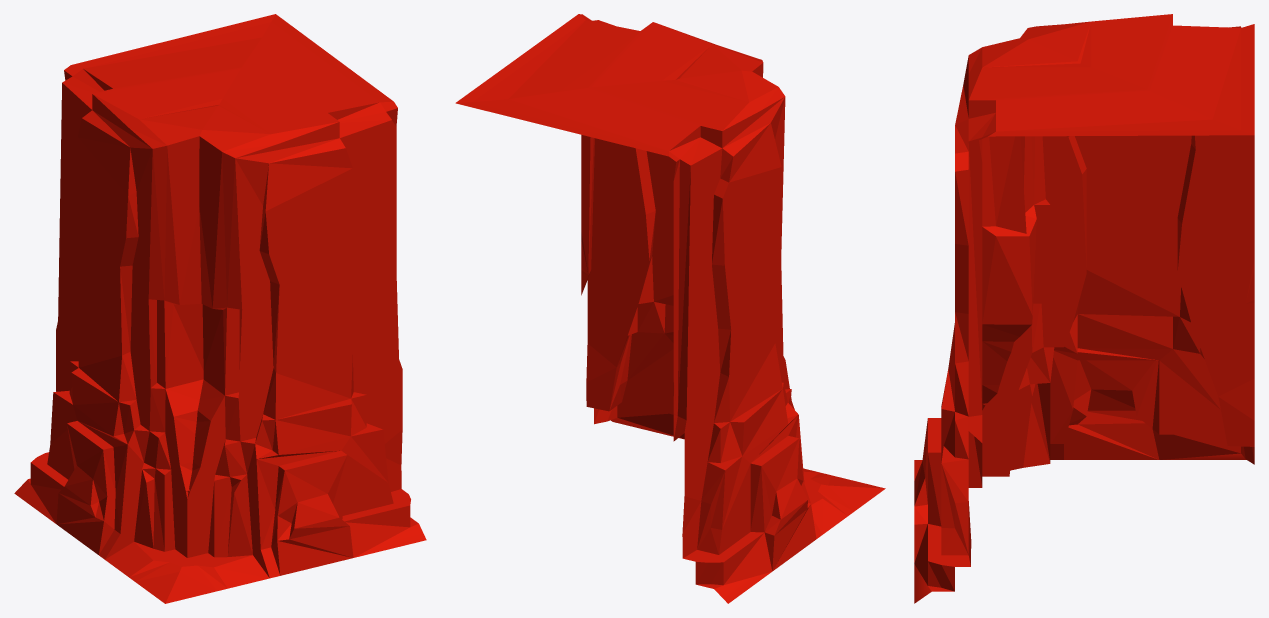
The model's file is OuterCorner.obj.
The picture shows the model from 3 angles, left to right: view 1: azimuth 30°, elevation 25°; view 2: azimuth 150°, elevation 25°; view 3: azimuth 270°, elevation 25°; orthographic projection. The views are drawn at different scales.
Parts seen in each view (by area): view 1: Untitled.002; view 2: Untitled.002; view 3: Untitled.002.
Boxes of the visible parts, <box> form: Untitled.002: <box>14,14,426,603</box>; Untitled.002: <box>455,14,885,603</box>; Untitled.002: <box>914,14,1254,603</box>.
Size of the model in its own units: 2.5 by 3.8 by 2.5.
